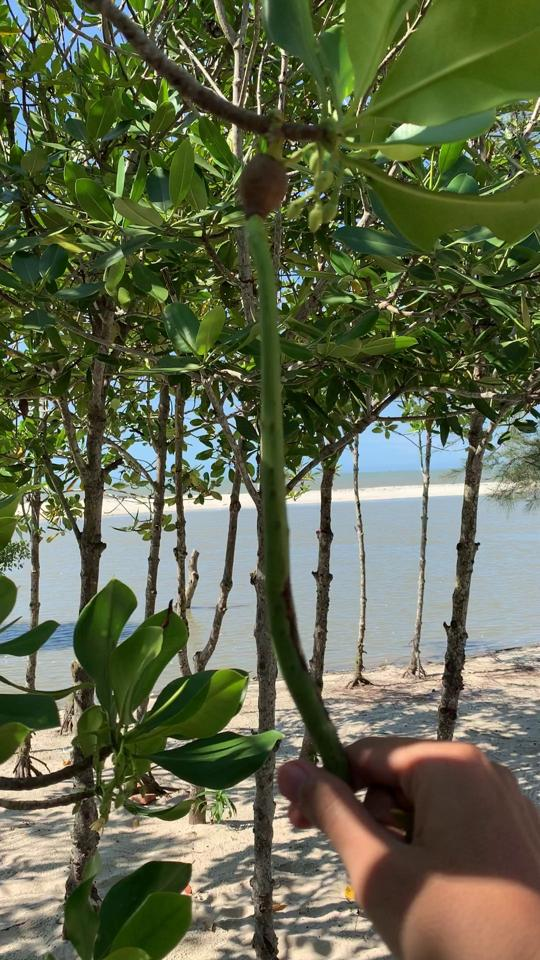setengah matang: (213, 127, 378, 804)
